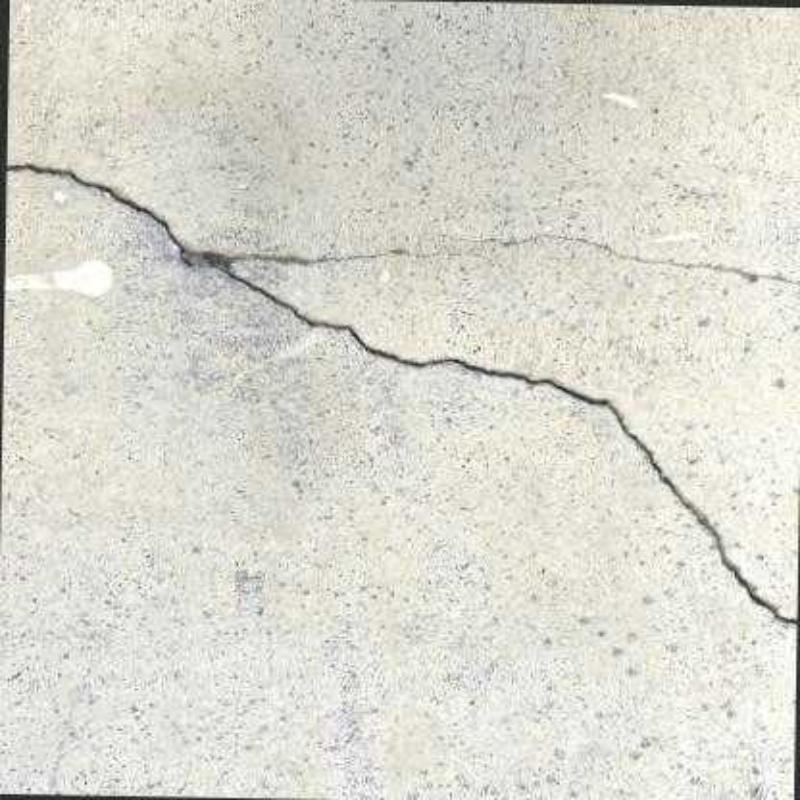crack: (6, 162, 794, 625), (225, 233, 798, 285)
